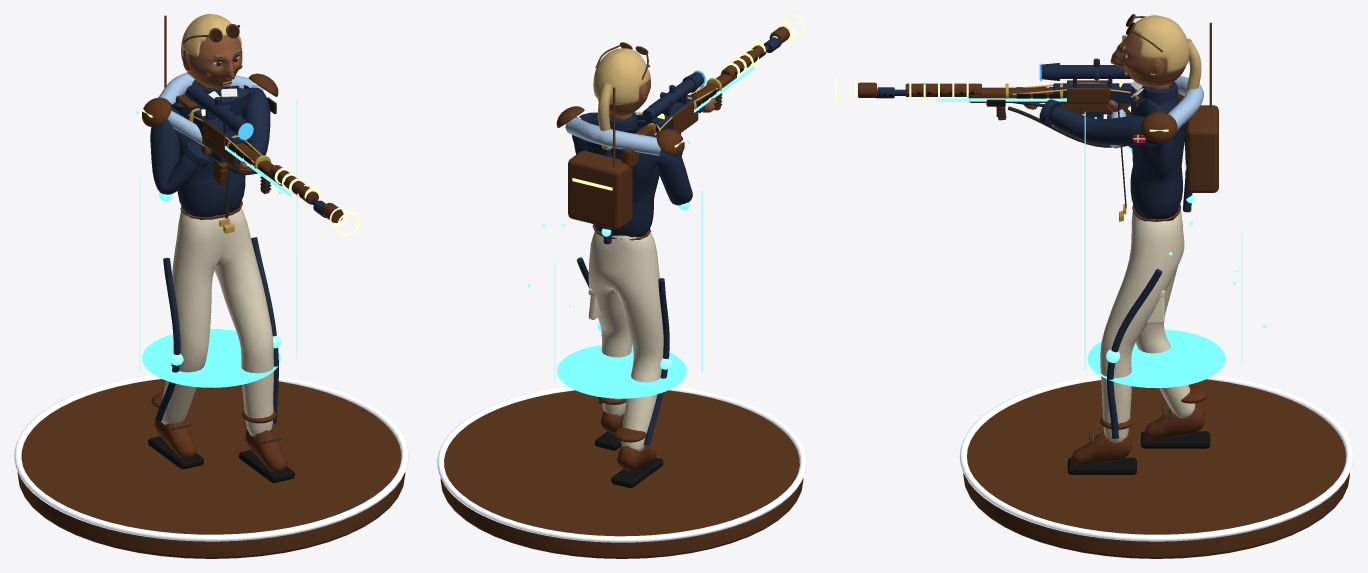
Rendered from skytte_hellerup.glb.
3 renders of one model, left to right at view 1: azimuth 30°, elevation 25°; view 2: azimuth 150°, elevation 25°; view 3: azimuth 270°, elevation 25°, orthographic. The views are drawn at different scales.
Parts seen in each view (by area): view 1: fod_net, menneske_net, op4.002_net, hoved_net, vaaben_net, op4_net, op3.001_net, op3_net, op4.001_net, op1_net, op2_net; view 2: fod_net, menneske_net, op3_net, op4.002_net, hoved_net, vaaben_net, op4_net, op3.001_net, op4.001_net; view 3: fod_net, menneske_net, op4.002_net, hoved_net, op3_net, vaaben_net, op3.001_net, op4_net, op1_net, op4.001_net, op2_net.
Boxes of the visible parts, left/top/right/bottom form: fod_net: left=14, top=374, right=408, bottom=558; menneske_net: left=148, top=72, right=294, bottom=482; op4.002_net: left=136, top=101, right=297, bottom=387; hoved_net: left=181, top=14, right=242, bottom=88; vaaben_net: left=176, top=85, right=317, bottom=205; op4_net: left=155, top=192, right=280, bottom=423; op3.001_net: left=202, top=120, right=343, bottom=222; op3_net: left=141, top=15, right=278, bottom=126; op4.001_net: left=201, top=109, right=359, bottom=236; op1_net: left=211, top=123, right=325, bottom=206; op2_net: left=188, top=108, right=271, bottom=193; fod_net: left=437, top=386, right=806, bottom=558; menneske_net: left=565, top=98, right=716, bottom=488; op3_net: left=556, top=87, right=684, bottom=229; op4.002_net: left=528, top=141, right=702, bottom=398; hoved_net: left=593, top=42, right=650, bottom=149; vaaben_net: left=621, top=45, right=769, bottom=168; op4_net: left=576, top=149, right=690, bottom=445; op3.001_net: left=672, top=26, right=789, bottom=128; op4.001_net: left=659, top=14, right=805, bottom=117; fod_net: left=959, top=375, right=1353, bottom=558; menneske_net: left=1024, top=76, right=1210, bottom=474; op4.002_net: left=1084, top=111, right=1266, bottom=388; hoved_net: left=1110, top=14, right=1201, bottom=95; op3_net: left=1141, top=22, right=1219, bottom=192; vaaben_net: left=878, top=58, right=1184, bottom=114; op3.001_net: left=858, top=80, right=1110, bottom=102; op4_net: left=1106, top=122, right=1194, bottom=439; op1_net: left=876, top=63, right=1130, bottom=147; op4.001_net: left=835, top=77, right=1130, bottom=111; op2_net: left=986, top=82, right=1138, bottom=120.
Size of the model in its own units: 1.94 by 2.5 by 2.55.
